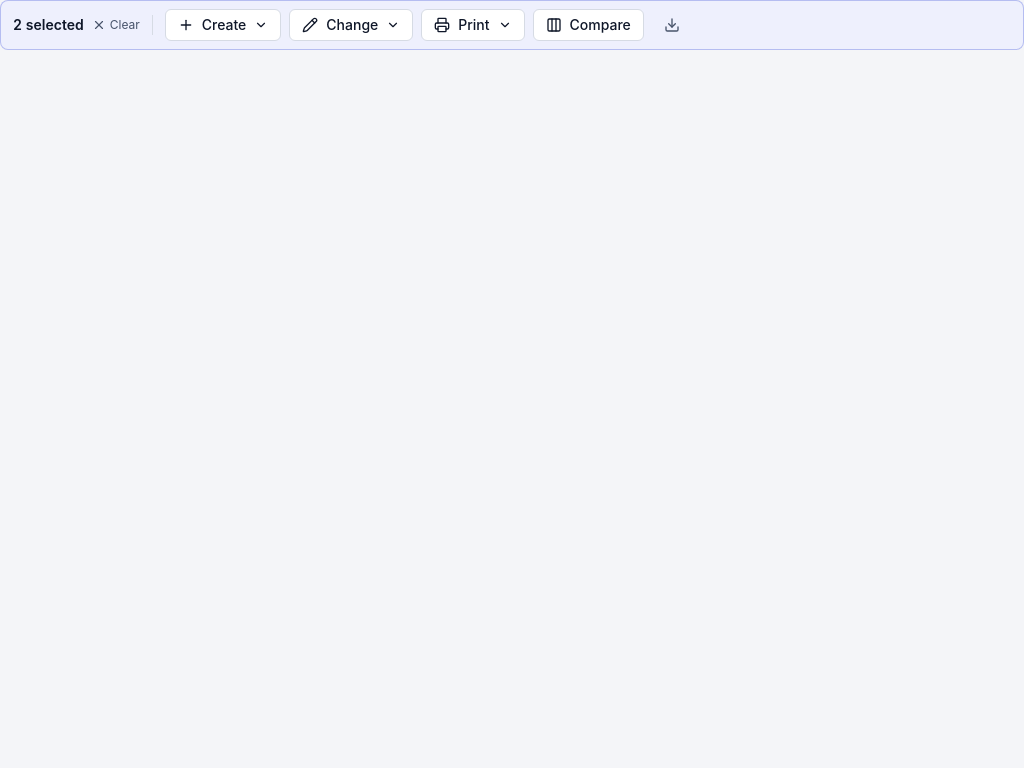
Scenario: changing them › inactivates only the active ones, and lists any refused
Click the button "Change": (351, 25) [289,9,413,41]
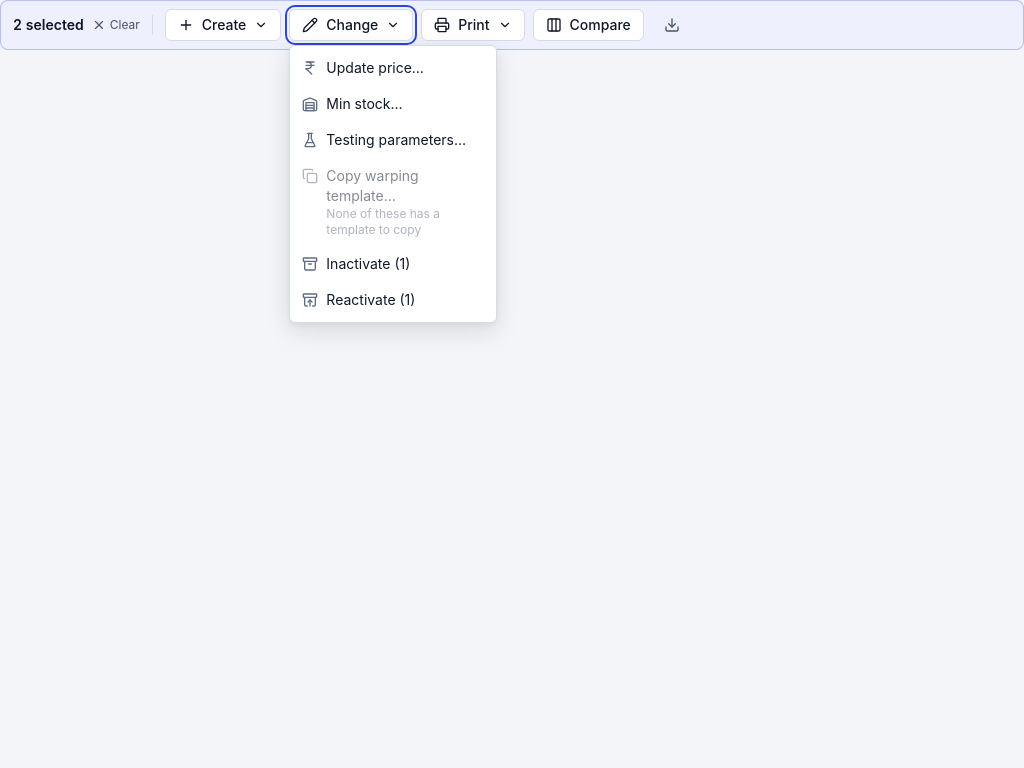
Click the menu item "Inactivate (1)": (393, 264) [290,246,496,282]
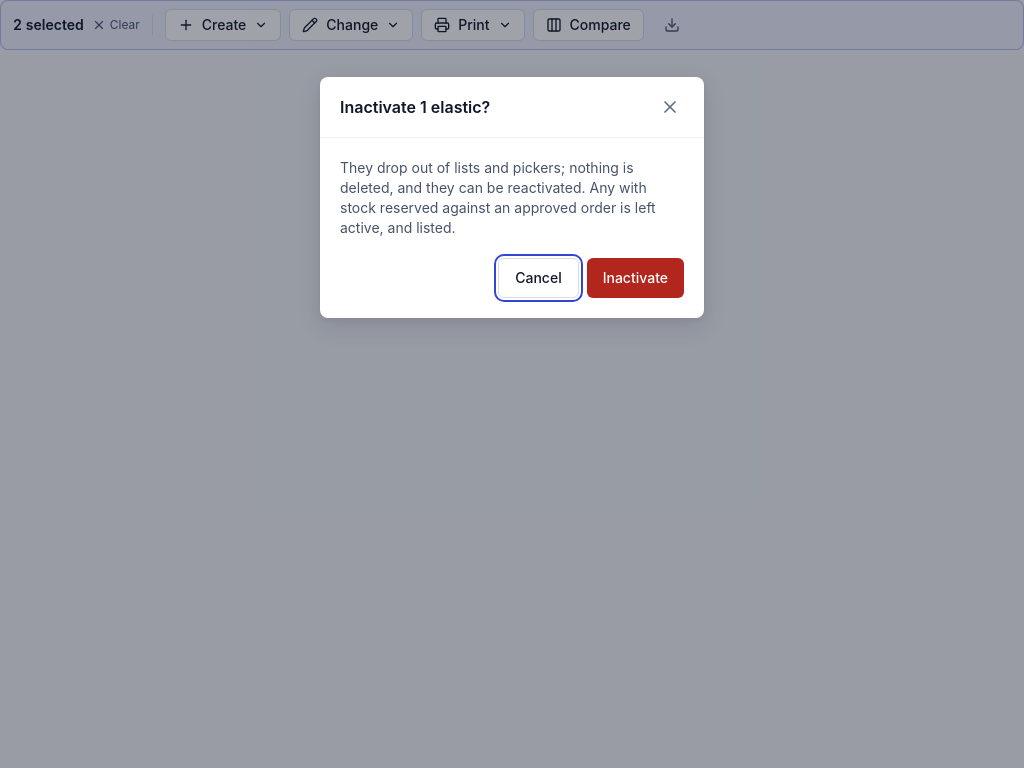
Click the button "Inactivate": (635, 278) [587,258,684,298]
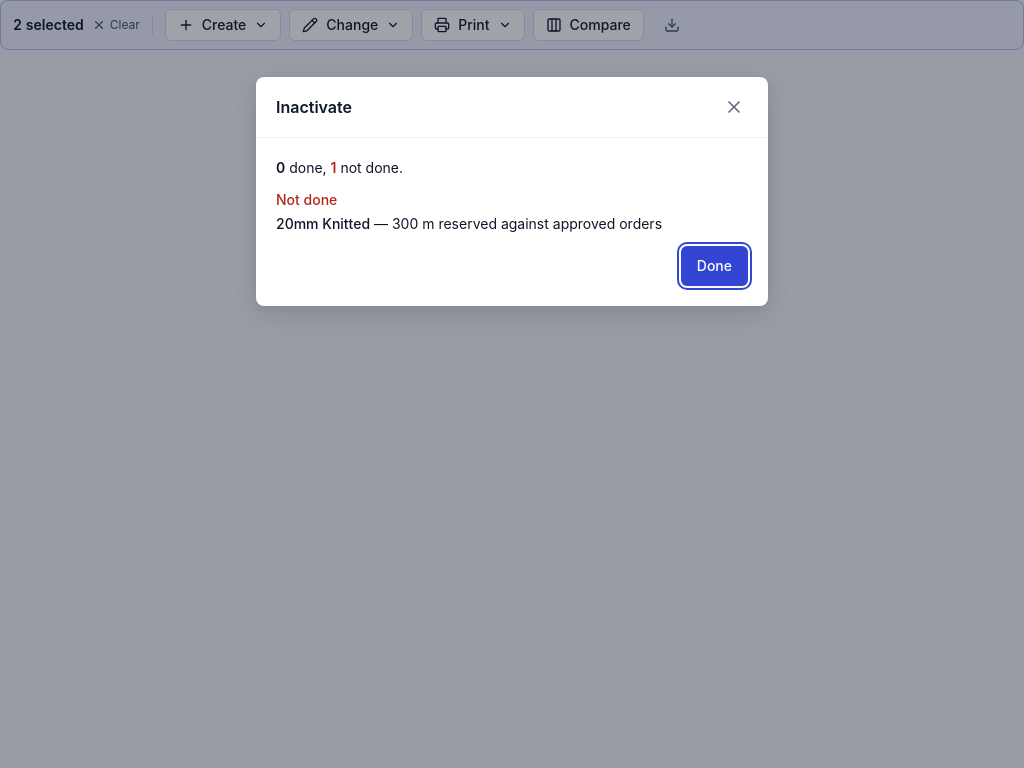
Result: the list item "20mm Knitted — 300 m reserved against approved orders" is shown at [276,215,662,232]
